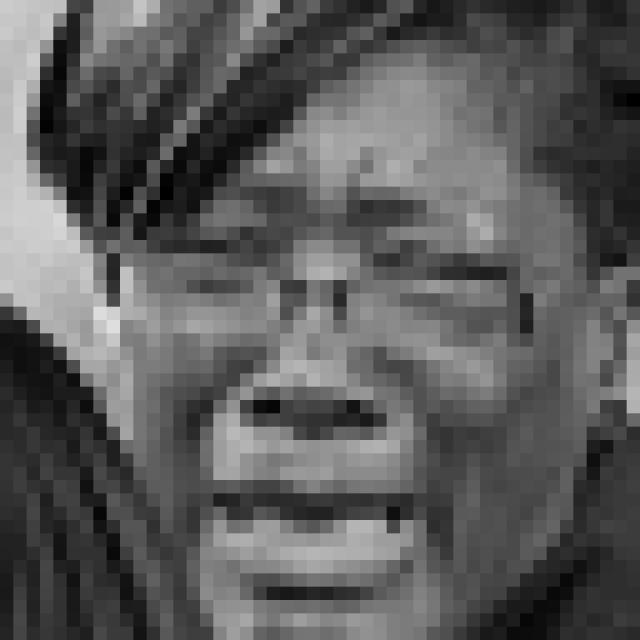sad: (155, 143, 534, 607)
